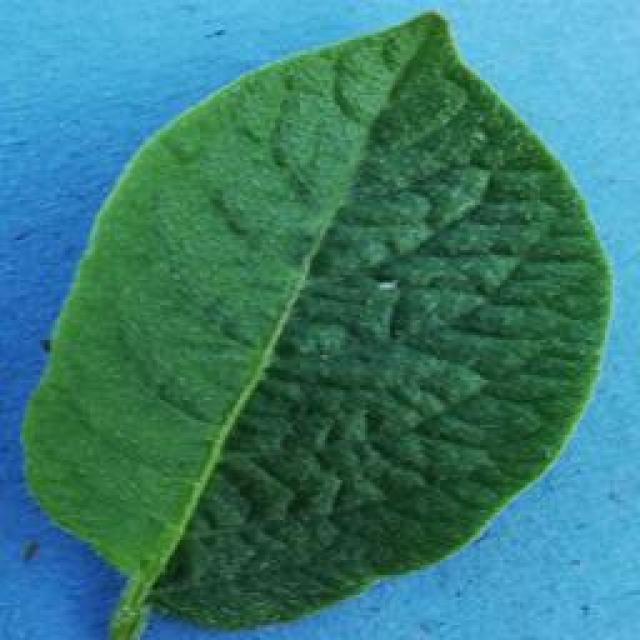Potato_Healthy: (26, 7, 602, 630)
